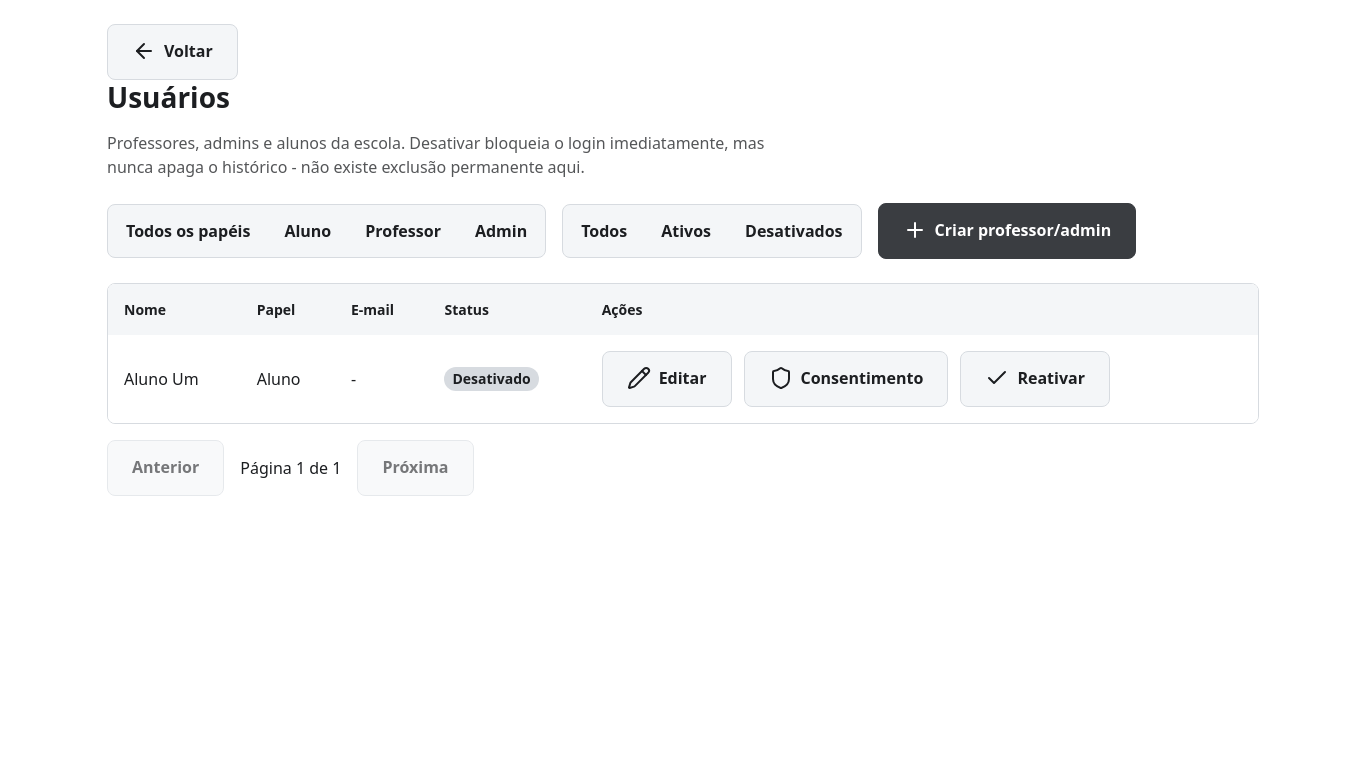
Scenario: AdminUsers › AC4 - shows a pending state when the guardian consent has not been registered yet
The image size is (1366, 768).
Check: the text "Aluno Um" is shown, box [108,335,241,423]
Click the button "Consentimento": [846, 379] box [744,351,948,407]
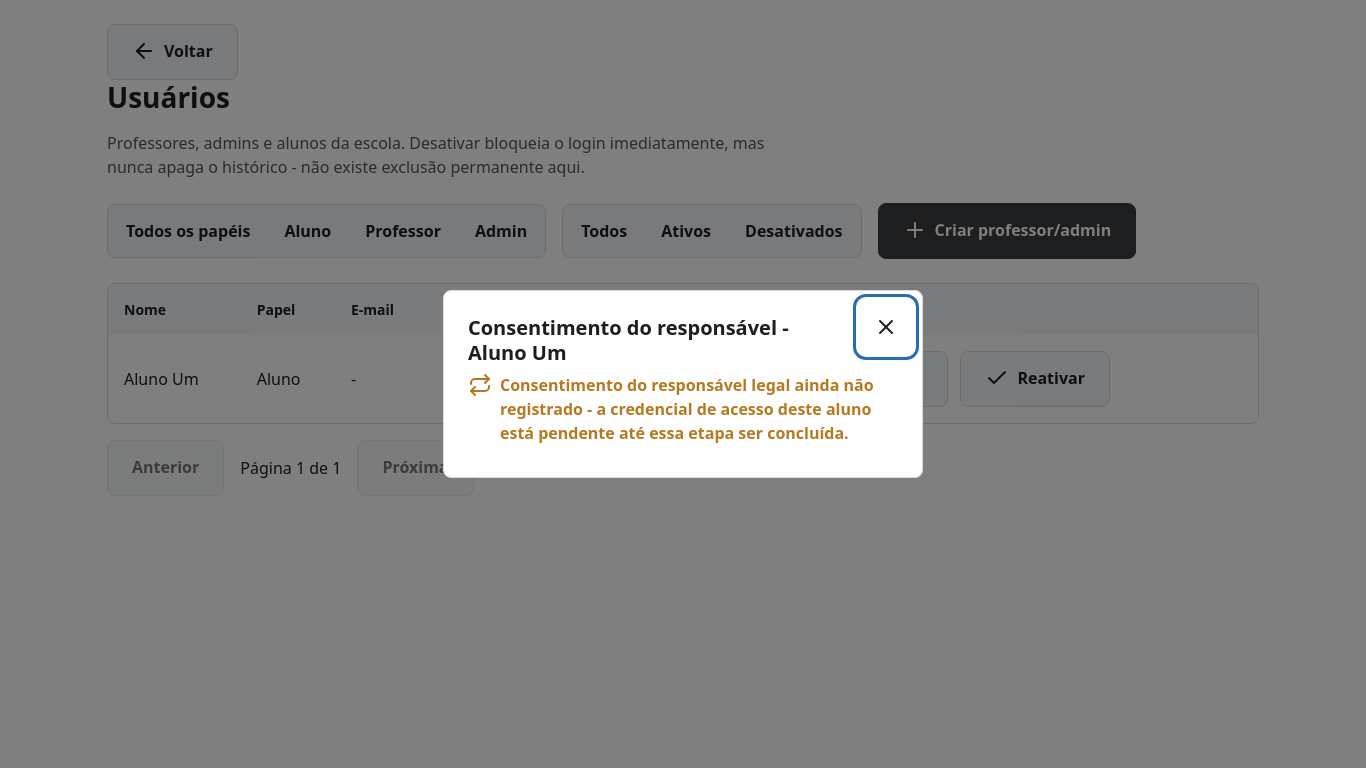
Check: the text "ainda não registrado" is shown, box [500,374,874,444]
